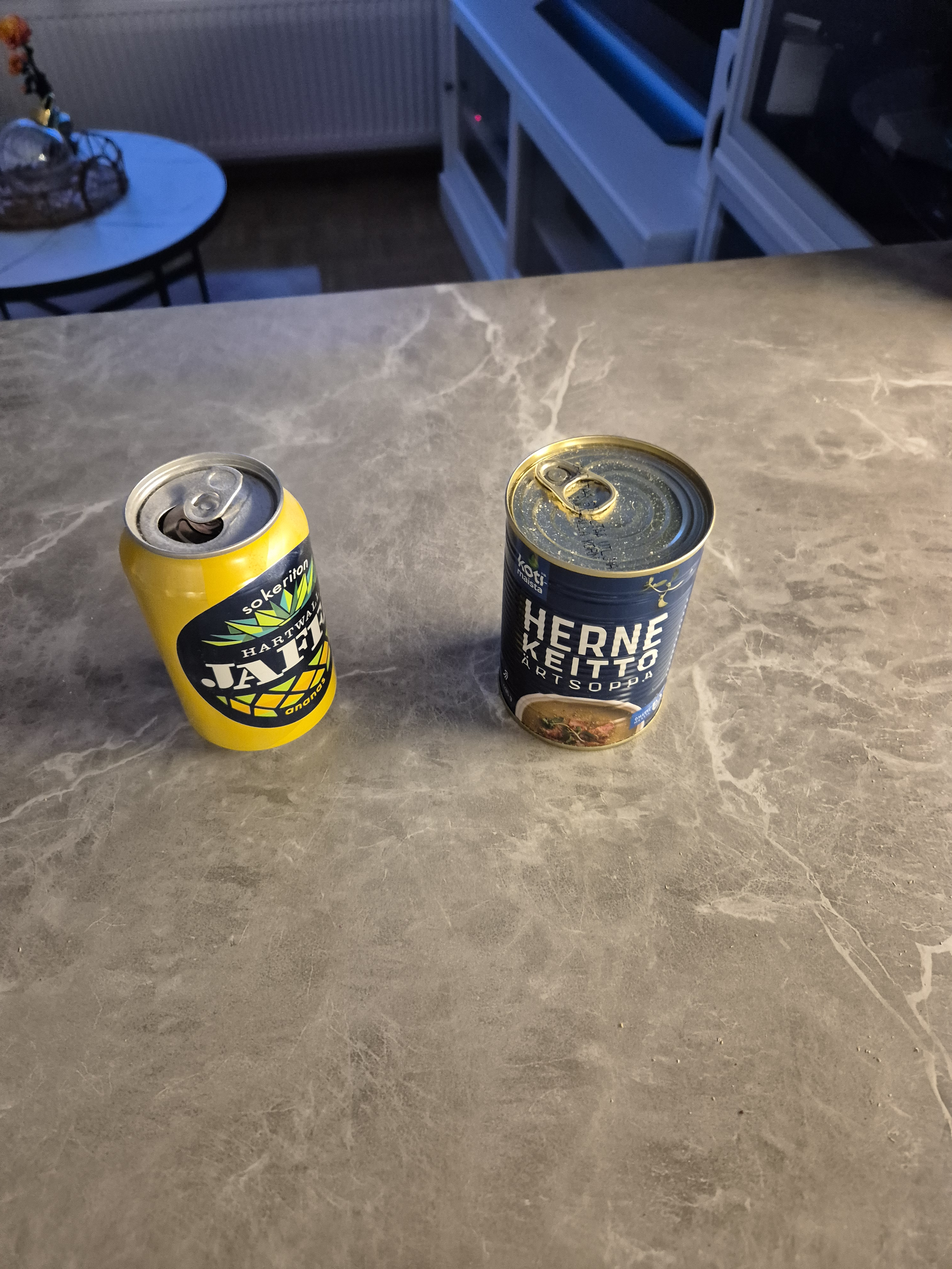Konservburk: (497, 433, 718, 753)
Pantburk: (117, 450, 338, 752)
